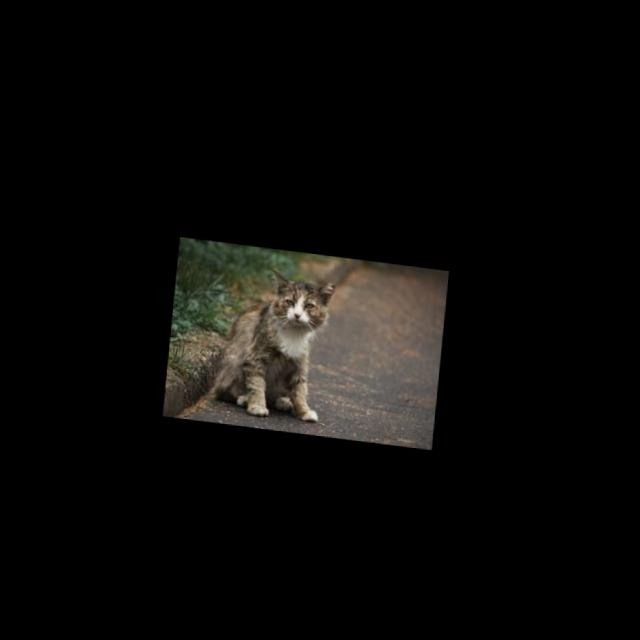animals: (215, 261, 342, 422)
